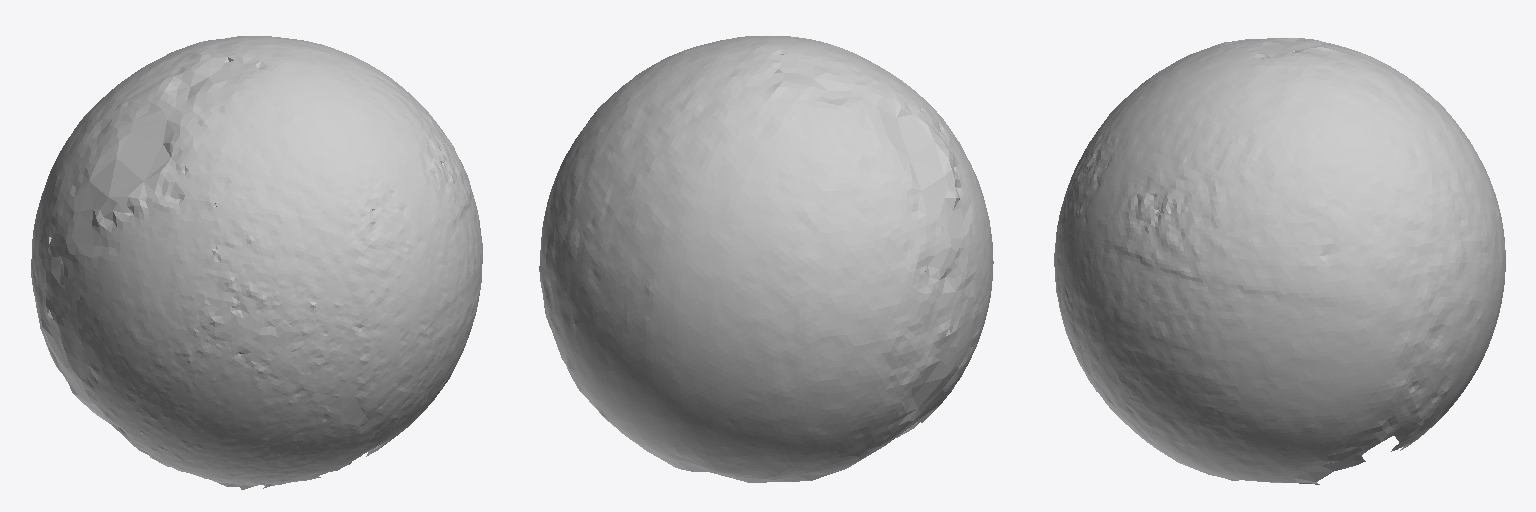
File: Gridtest_0_0_0.000001.obj
The picture shows the model from 3 angles: view 1: azimuth 30°, elevation 25°; view 2: azimuth 150°, elevation 25°; view 3: azimuth 270°, elevation 25°; orthographic projection.
Bounding box in the file's own units: 299 × 290 × 299.